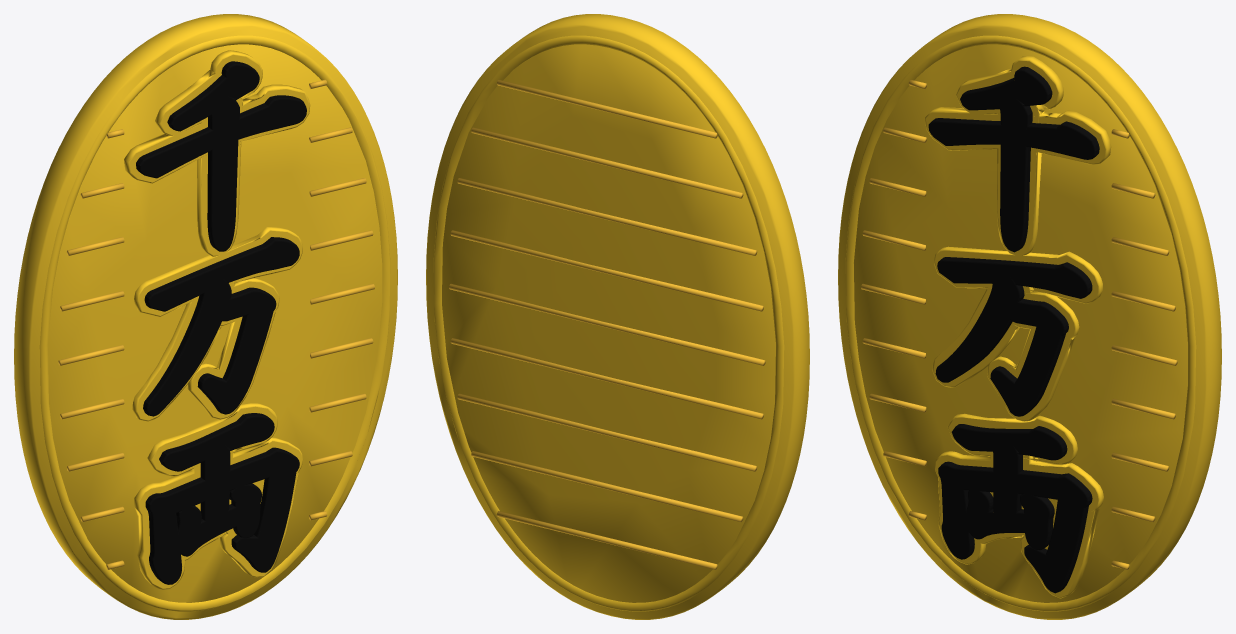
The model's file is koban.glb.
3 renders of one model, left to right at view 1: azimuth 30°, elevation 25°; view 2: azimuth 150°, elevation 25°; view 3: azimuth 330°, elevation 25°, orthographic.
Visible parts, largest first — view 1: Koban; view 2: Koban; view 3: Koban.
Boxes of the visible parts, x1=… form: Koban: x1=14, y1=14, x2=397, y2=619; Koban: x1=426, y1=14, x2=809, y2=619; Koban: x1=838, y1=14, x2=1221, y2=619.
Size of the model in its own units: 0.1975 by 0.3 by 0.0279.
